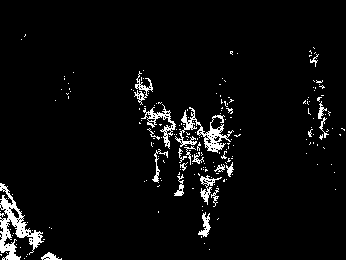person: (196, 113, 235, 240), (174, 106, 204, 196), (144, 102, 172, 185)
